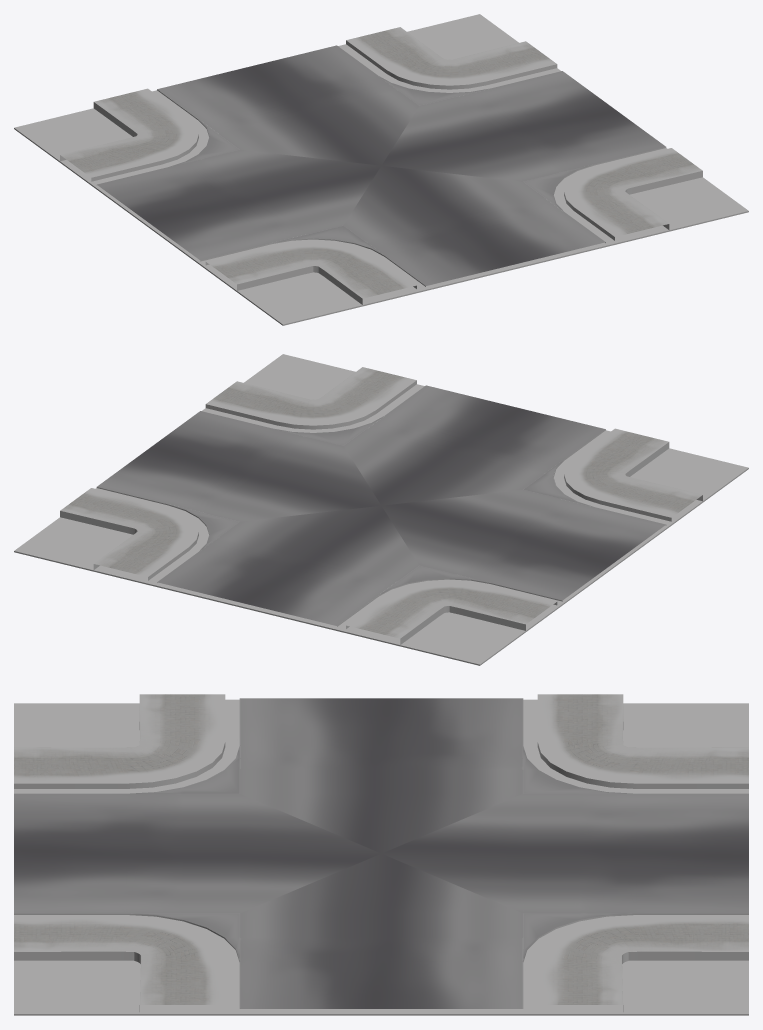
File: Intersection_Curved.fbx
3 views of the same model, one above another, from view 1: azimuth 30°, elevation 25°; view 2: azimuth 150°, elevation 25°; view 3: azimuth 270°, elevation 25° (orthographic). The views are drawn at different scales.
Visible parts, largest first — view 1: Road_10X37, Road_10X43; view 2: Road_10X37, Road_10X43; view 3: Road_10X37, Road_10X43.
Boxes of the visible parts, <box> form: Road_10X37: <box>60,27,702,304</box>; Road_10X43: <box>14,14,748,325</box>; Road_10X37: <box>60,367,702,644</box>; Road_10X43: <box>14,354,748,665</box>; Road_10X37: <box>14,694,748,1011</box>; Road_10X43: <box>14,703,748,1015</box>.
Size of the model in its own units: 10 by 0.1599 by 10.
